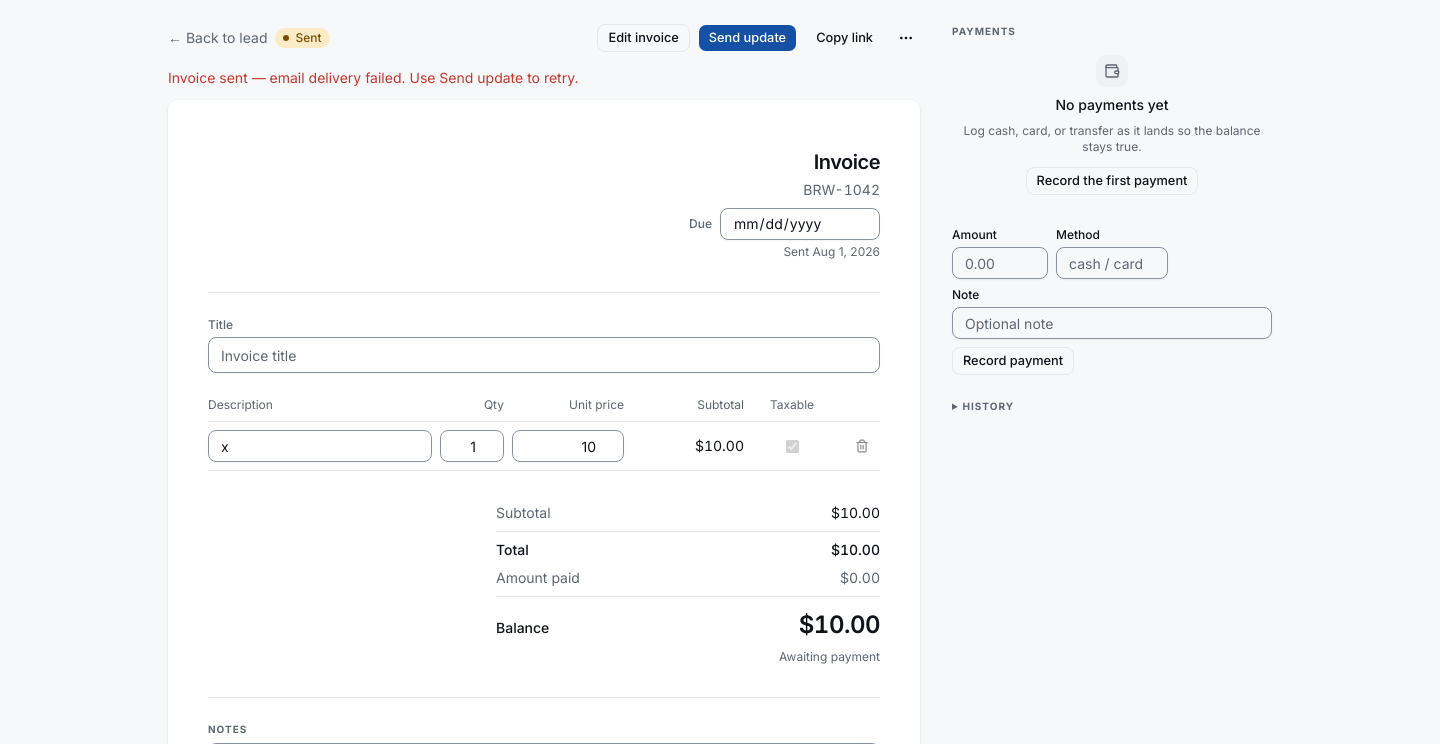
Scenario: InvoiceEditorClient — document › keeps the standing delivery warning when a retry send throws
Step 1. Click the button "Send update" → (747, 38), box [698, 24, 797, 52]
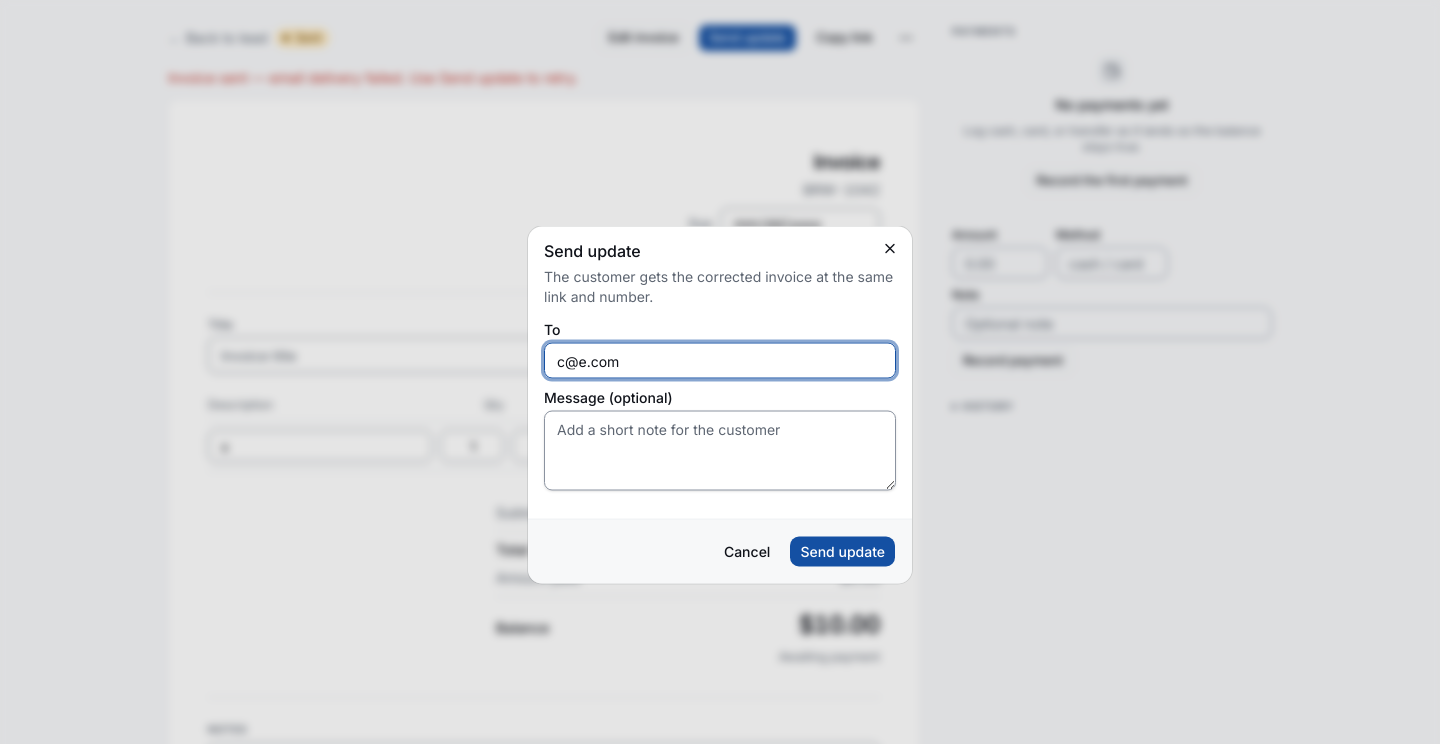
Step 2. Click the button "Send update" → (843, 552), box [789, 536, 896, 568]
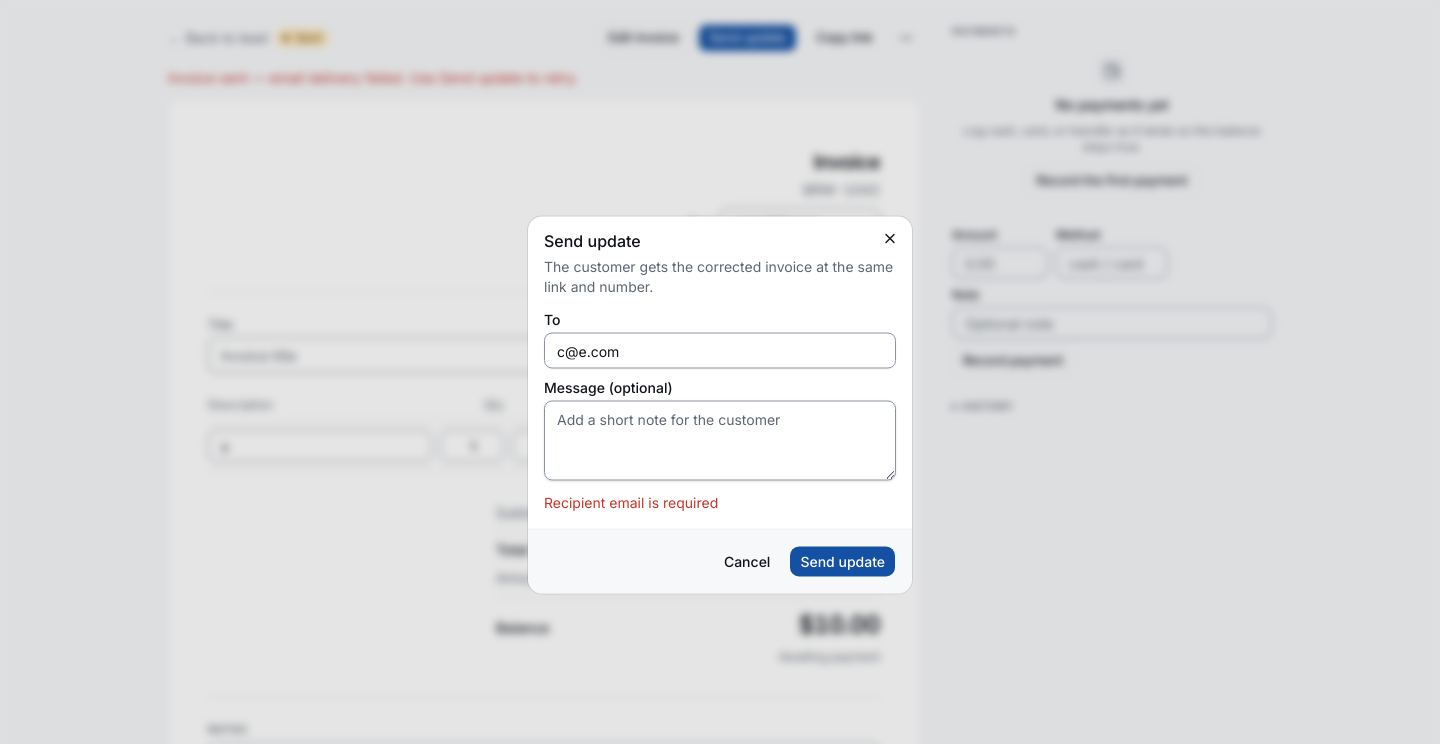
Check: the text "email delivery failed" is shown, box [168, 69, 578, 86]
Check: the text "Recipient email is required" is shown, box [544, 494, 718, 510]
